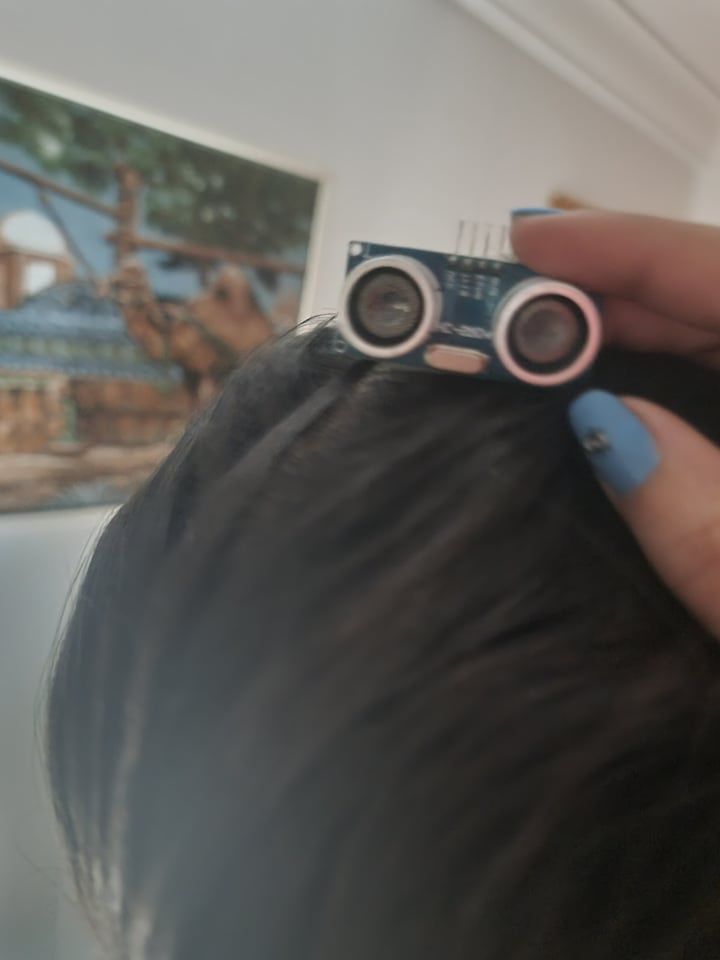SENSOR: (338, 244, 614, 393)
